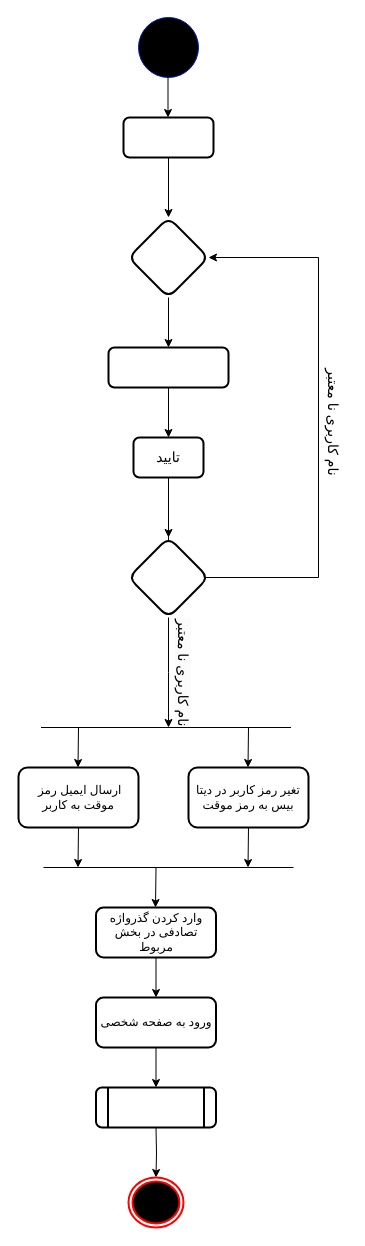
Some shapes in this 365 by 1246 pixel diagram are drawn without their labels. Here are the shapes that lost their labels. From the top down, the centre of each, then its label:
At [168,137]: "زدن روی فراموشی گذرواژه".
At [168,367]: "وارد کردن نام کاربری".
At [155,1107]: "نمایش صفحه تغییر گذرواژه".
